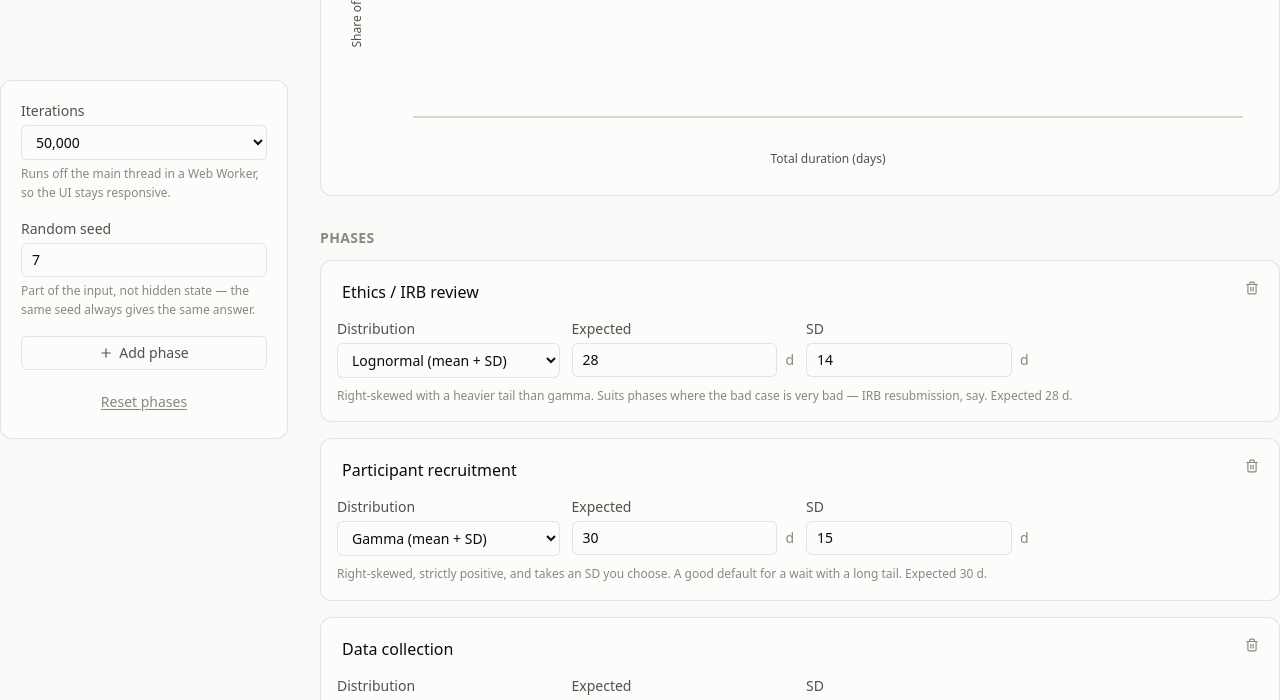
TimelinePage › swaps to three-point inputs for PERT
(page scrolled)
Select "PERT (three-point)" in the 1st dropdown labelled "Distribution" at (448, 360), box x1=337 y1=343 x2=560 y2=378
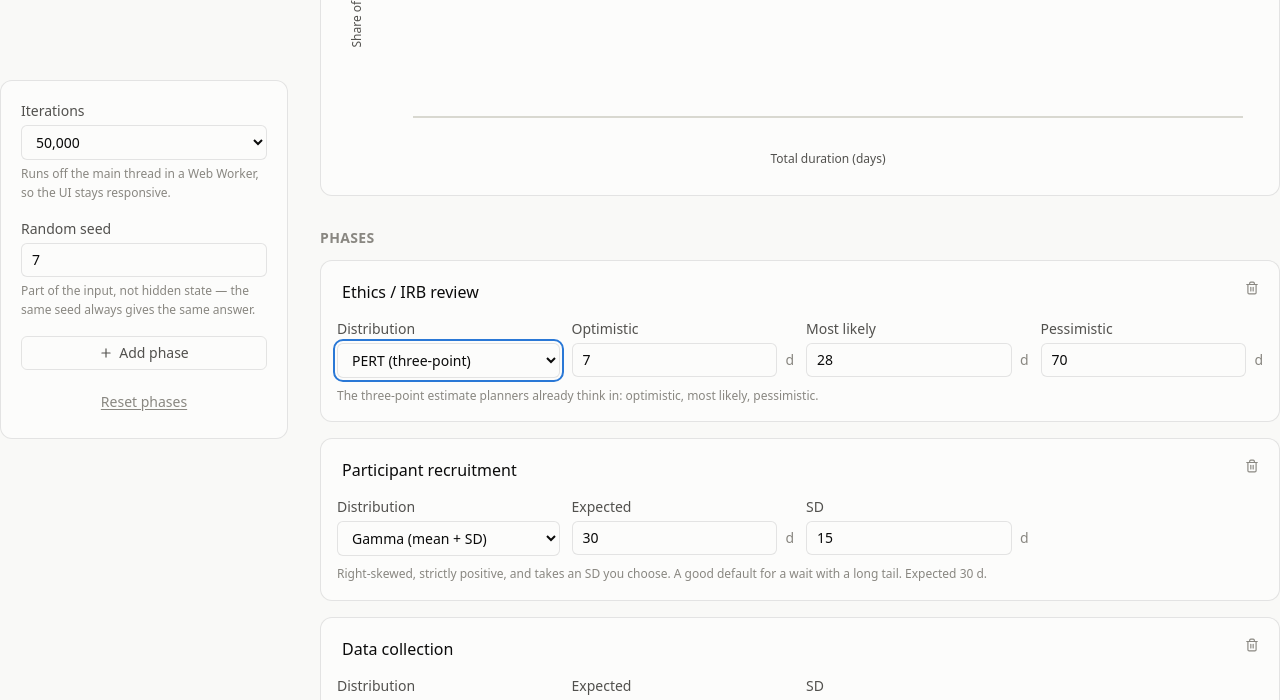
Expected: the number of number fields labelled "Pessimistic" is 2
